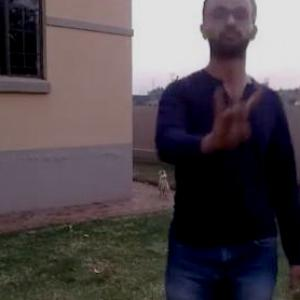takeoff-hand: (207, 74, 270, 152)
